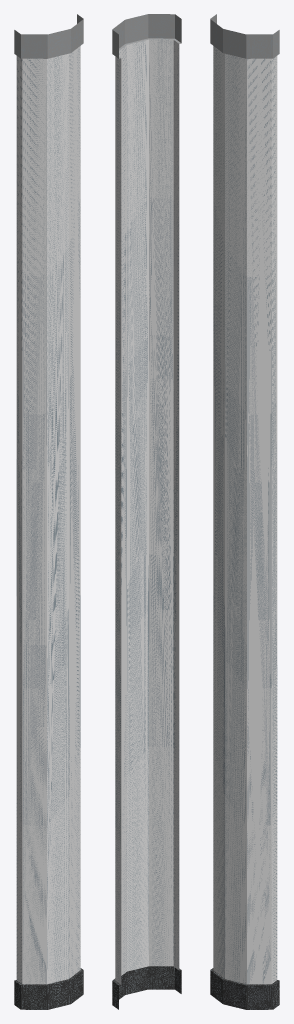
File: WallFace_plinth_T3.dae
3 views of the same model, side by side, from view 1: azimuth 30°, elevation 25°; view 2: azimuth 210°, elevation 25°; view 3: azimuth 330°, elevation 25° (orthographic).
Parts seen in each view (by area): view 1: group_0 (×3); view 2: group_0 (×3); view 3: group_0 (×3).
Part boxes in pixels (box(x1,y1,x2,y2)): group_0 (×3): box(14, 14, 83, 1009); group_0 (×3): box(112, 14, 181, 1009); group_0 (×3): box(210, 14, 279, 1009).
Size of the model in its own units: 10.63 by 3.98 by 157.
